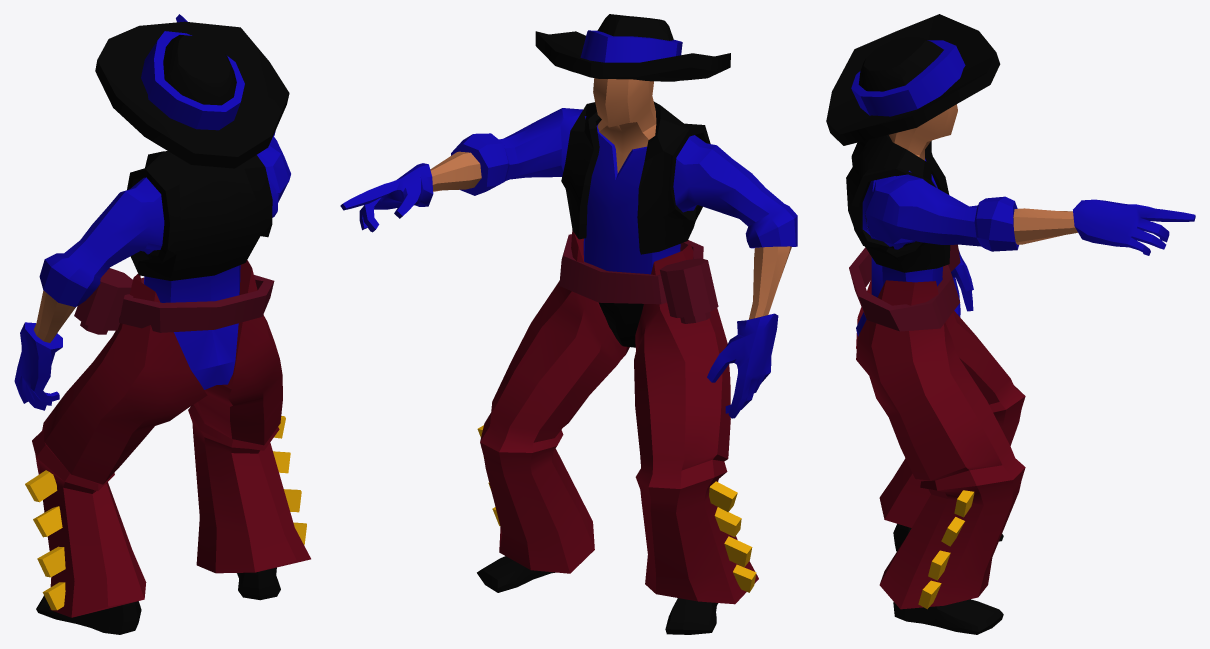
Rendered from Cowboy_Mesh_Winning.fbx.
3 views of the same model, side by side, from view 1: azimuth 30°, elevation 25°; view 2: azimuth 150°, elevation 25°; view 3: azimuth 270°, elevation 25° (orthographic). The views are drawn at different scales.
Parts seen in each view (by area): view 1: Cowboy_Mesh_Winning; view 2: Cowboy_Mesh_Winning; view 3: Cowboy_Mesh_Winning.
Boxes of the visible parts, box(x1,y1,x2,y2) form: Cowboy_Mesh_Winning: box(14, 14, 310, 634); Cowboy_Mesh_Winning: box(340, 14, 797, 634); Cowboy_Mesh_Winning: box(826, 14, 1195, 634).
Bounding box in the file's own units: 2.71 × 2.99 × 4.83.
